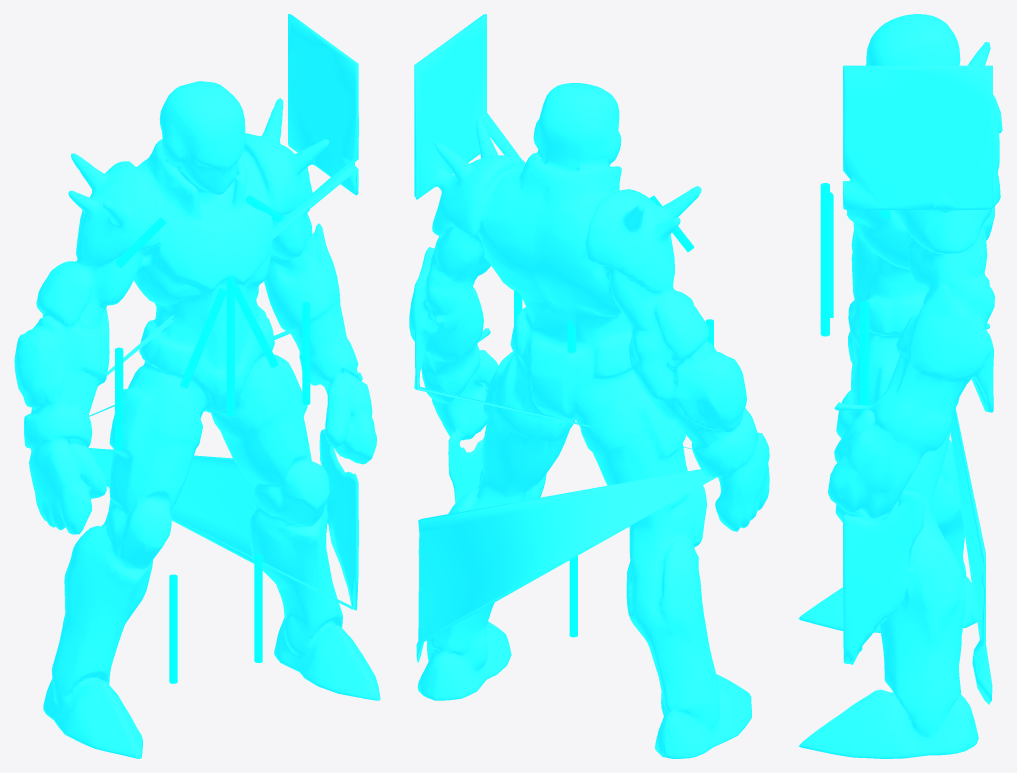
File: Enforcer_Fists.glb
3 views of the same model, side by side, from view 1: azimuth 30°, elevation 25°; view 2: azimuth 150°, elevation 25°; view 3: azimuth 270°, elevation 25° (orthographic). The views are drawn at different scales.
Visible parts, largest first — view 1: Enforcer_Fists; view 2: Enforcer_Fists; view 3: Enforcer_Fists.
Boxes of the visible parts, <box> form: Enforcer_Fists: <box>14,14,380,758</box>; Enforcer_Fists: <box>409,14,769,758</box>; Enforcer_Fists: <box>798,14,1002,758</box>.
Size of the model in its own units: 1.13 by 2.1 by 0.5707.
